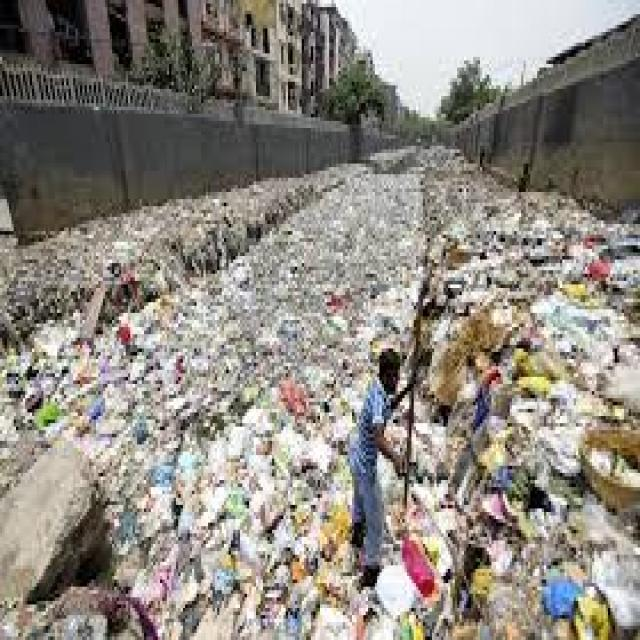heap: (443, 193, 633, 640)
